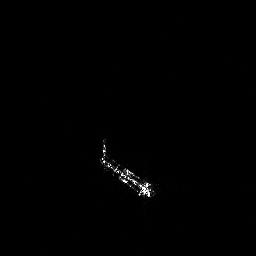ship: (101, 153, 153, 198)
